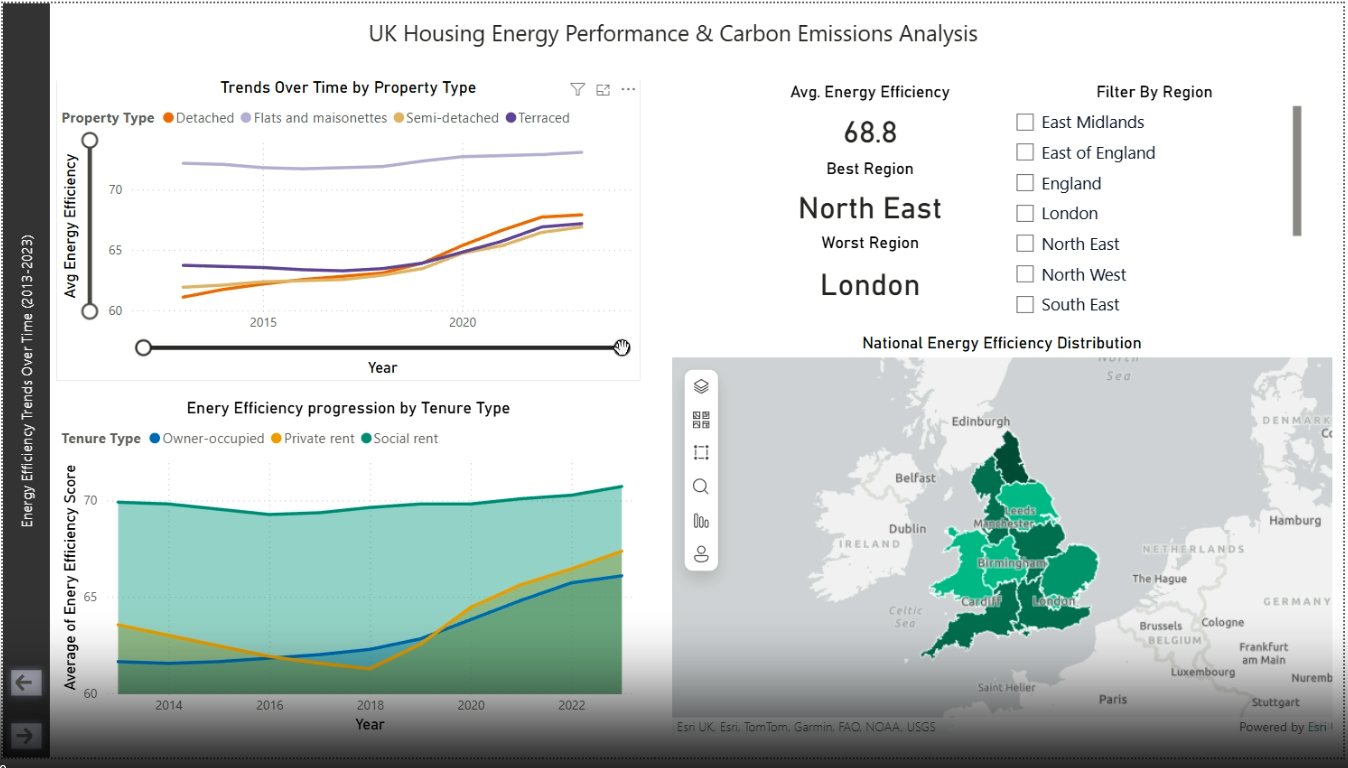

Layout of this report page (visuals, bound fields, positions):
{"tool":"powerbi","page":{"name":"Energy Efficiency","canvas":[1280,720],"ordinal":1},"visuals":[{"type":"lineChart","title":" Trends Over Time by Property Type","fields":{"Series":["1b_energy_housing.Flat Type"],"Category":["1b_energy_housing.End Year"],"Y":["1b_energy_housing.Avg Energy Efficiency"]},"box":[50.9,70.7,557.8,289.7],"z":0},{"type":"card","title":"Avg. Energy Efficiency","fields":{"Values":["1b_energy_housing.Avg Energy Efficiency"]},"box":[701.5,75,252.1,73.3],"z":1000},{"type":"card","title":"Worst Region","fields":{"Values":["Min(1b_energy_housing.Country or region name)"]},"box":[701.5,219.2,252.1,76.7],"z":2000},{"type":"textbox","box":[0,9,1279.7,65.4],"z":3000},{"type":"slicer","title":"Filter By Region","fields":{"Values":["1b_energy_housing.Country or region name"]},"box":[954.4,75,290,227.6],"z":4000},{"type":"card","title":"Best Region","fields":{"Values":["Min(1b_energy_housing.Country or region name)"]},"box":[701.5,148.4,252.1,72.5],"z":5000},{"type":"esriVisual","title":"National Energy Efficiency Distribution ","fields":{"Location":["1c_energy_housing.Country or region name"],"Color":["Avg(1b_energy_housing.Energy Efficiency Score)"]},"box":[634,314.5,639.9,387.8],"z":6000},{"type":"areaChart","title":"Enery Efficiency progression by Tenure Type","fields":{"Category":["1c_energy_housing.End Year"],"Series":["1c_energy_housing.Propterty Type"],"Y":["Avg(1c_energy_housing.Enery Efficiency Score)"]},"box":[51,377,557.9,325.1],"z":7000},{"type":"shape","title":"Left Nav Background","box":[0,0,44.8,720],"z":8000},{"type":"actionButton","box":[0,679.7,44.8,40.3],"z":9000},{"type":"actionButton","box":[0,628.7,44.8,40.3],"z":10000}]}

Visuals, with their boxes on the page's 1280x720 design canvas (x1, y1, x2, y2). These are canvas units, not pixel positions in the 1348x768 screenshot, which may show the page scaled, cropped or inside an application window:
" Trends Over Time by Property Type" lineChart: (x1=51, y1=71, x2=609, y2=360)
"Avg. Energy Efficiency" card: (x1=702, y1=75, x2=954, y2=148)
"Worst Region" card: (x1=702, y1=219, x2=954, y2=296)
textbox: (x1=0, y1=9, x2=1280, y2=74)
"Filter By Region" slicer: (x1=954, y1=75, x2=1244, y2=303)
"Best Region" card: (x1=702, y1=148, x2=954, y2=221)
"National Energy Efficiency Distribution " esriVisual: (x1=634, y1=314, x2=1274, y2=702)
"Enery Efficiency progression by Tenure Type" areaChart: (x1=51, y1=377, x2=609, y2=702)
"Left Nav Background" shape: (x1=0, y1=0, x2=45, y2=720)
actionButton: (x1=0, y1=680, x2=45, y2=720)
actionButton: (x1=0, y1=629, x2=45, y2=669)
